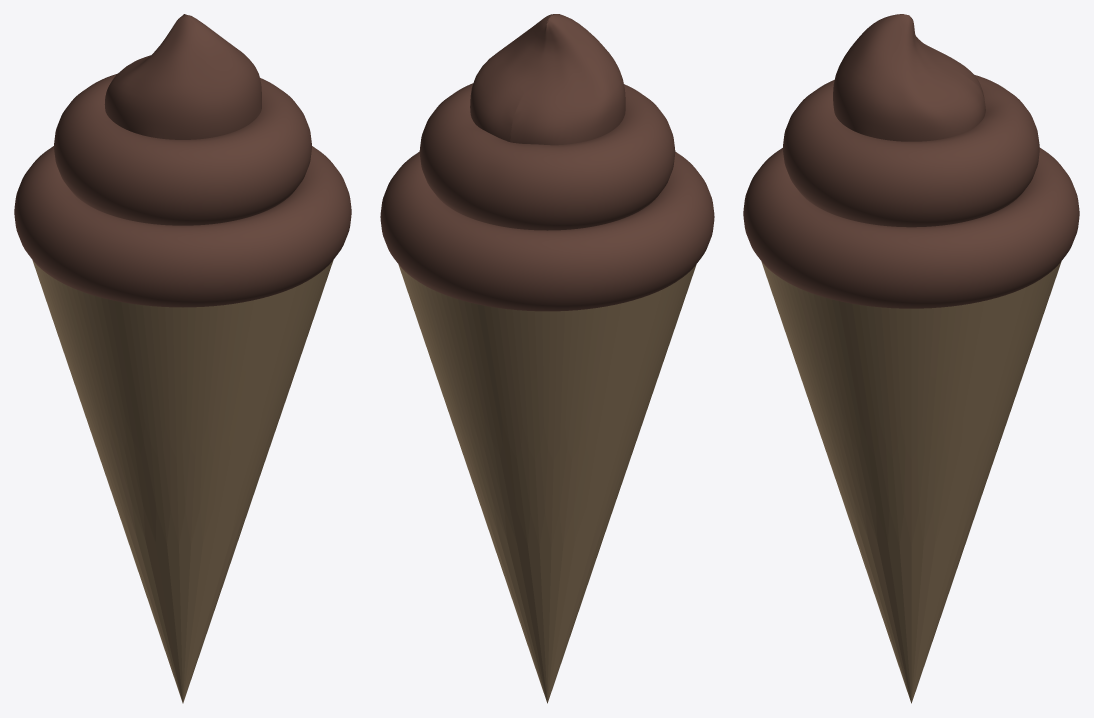
Rendered from unko.fbx.
The picture shows the model from 3 angles, left to right: view 1: azimuth 30°, elevation 25°; view 2: azimuth 150°, elevation 25°; view 3: azimuth 270°, elevation 25°; orthographic projection.
Visible parts, largest first — view 1: トーラス, トーラス.001; view 2: トーラス, トーラス.001; view 3: トーラス, トーラス.001.
Boxes of the visible parts, x1,y1,x2,y2 form: トーラス: (14, 14, 351, 307); トーラス.001: (32, 260, 333, 703); トーラス: (380, 14, 714, 311); トーラス.001: (398, 264, 696, 703); トーラス: (743, 14, 1079, 308); トーラス.001: (761, 261, 1061, 703).
Size of the model in its own units: 366 by 827 by 366.
